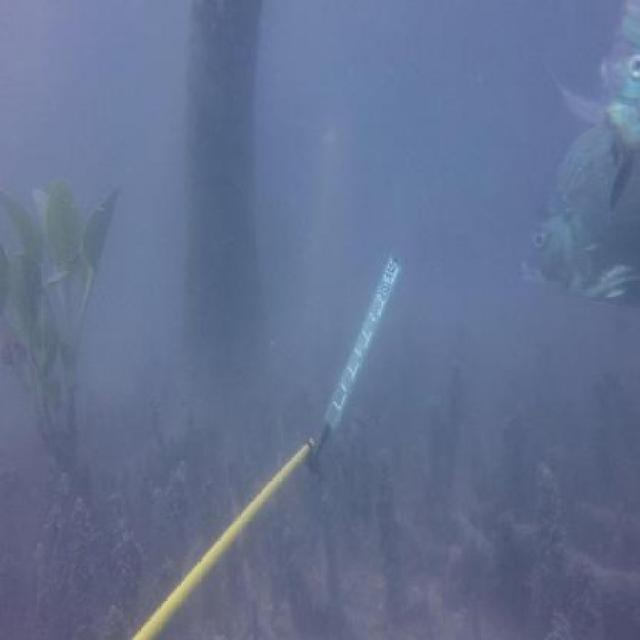acanthopagrus_palmaris: (518, 123, 640, 320), (591, 9, 640, 214)
